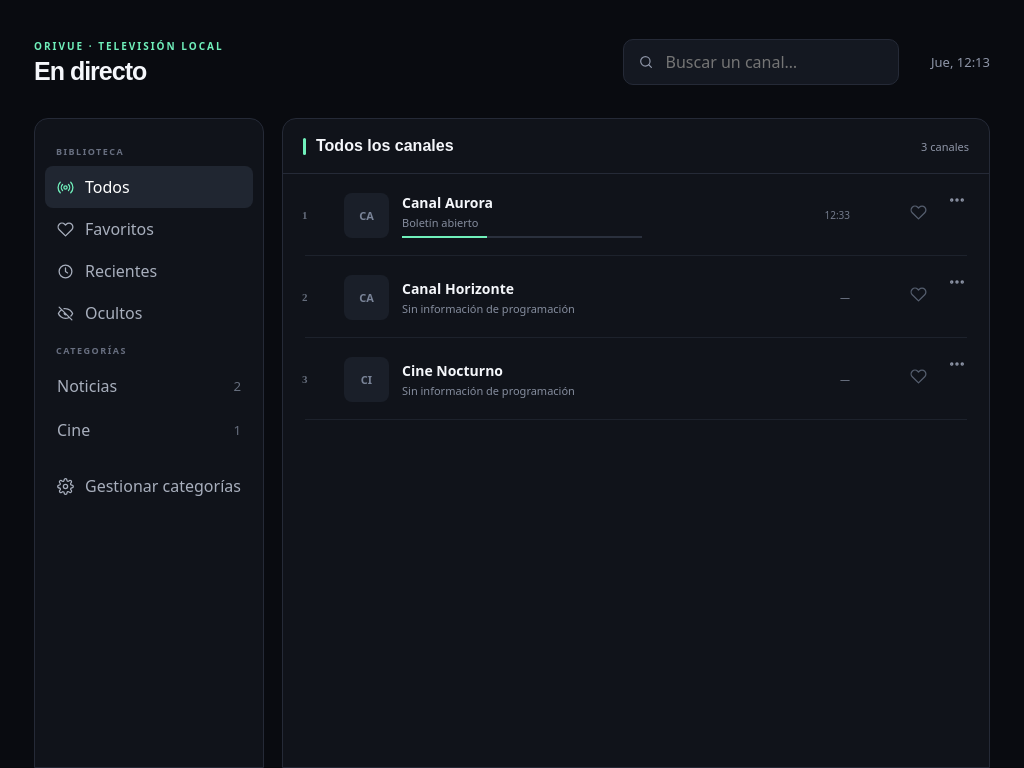
BrowsePage › filters by search text
Expected: the text "Canal Aurora" is shown, [402,192,493,212]
Step 1. Type "horiz" into the field with placeholder "Buscar un canal…" → (774, 62), box [664,50,884,74]
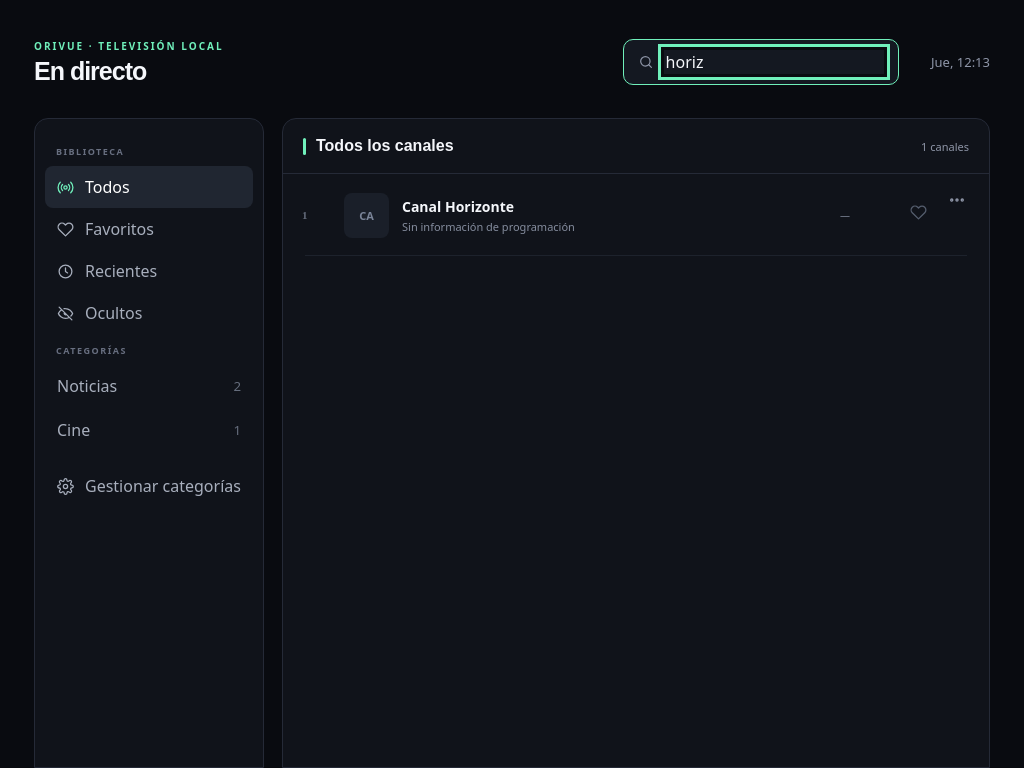
Expected: the text "Canal Horizonte" is shown, [402,196,514,216]
Expected: the button "Canal Aurora" is gone
